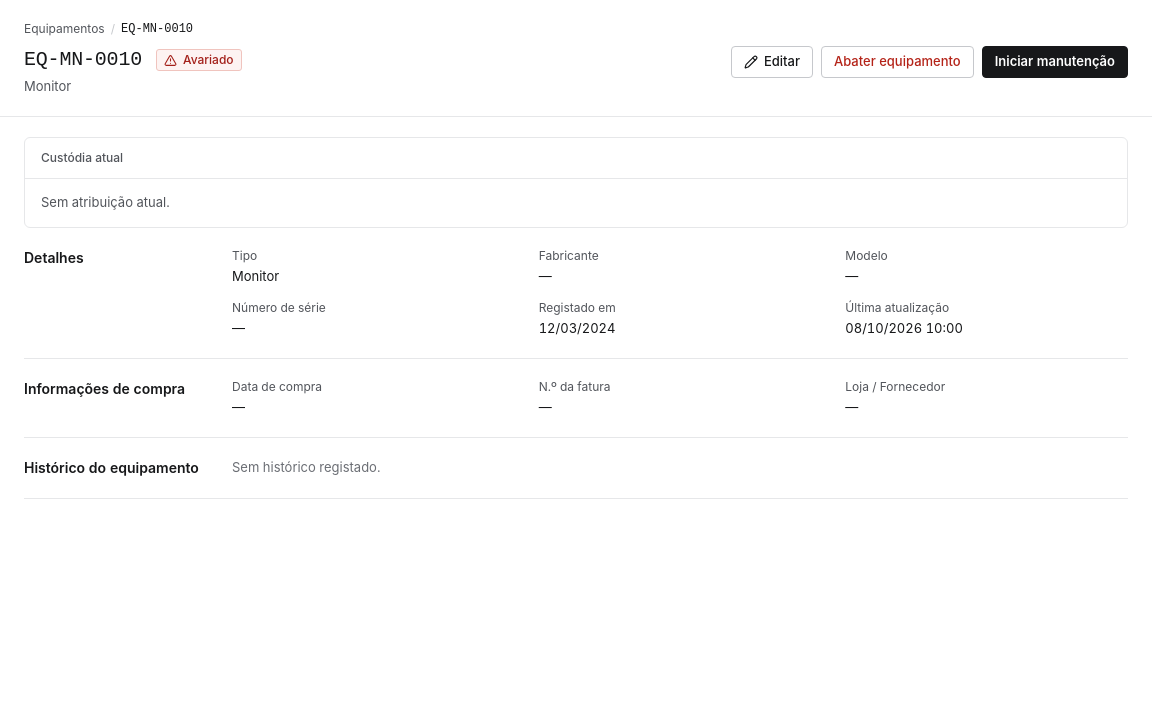
Test: Starting maintenance (Equipment detail → existing workflow) › shows a failed start inside the dialog
This screenshot has width=1152, height=720.
Step 1. Click the button "Iniciar manutenção" → (1055, 62), box [982,46,1128,78]
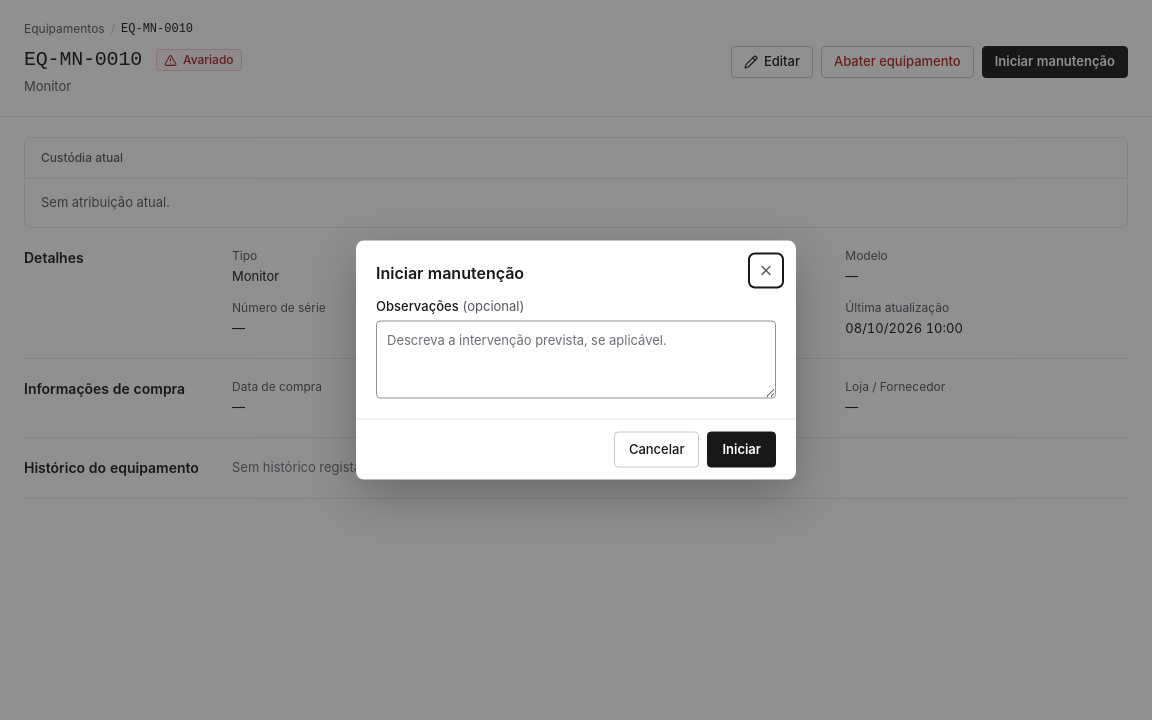
Step 2. Click the button "Iniciar" → (742, 450), box [707,432,776,468]
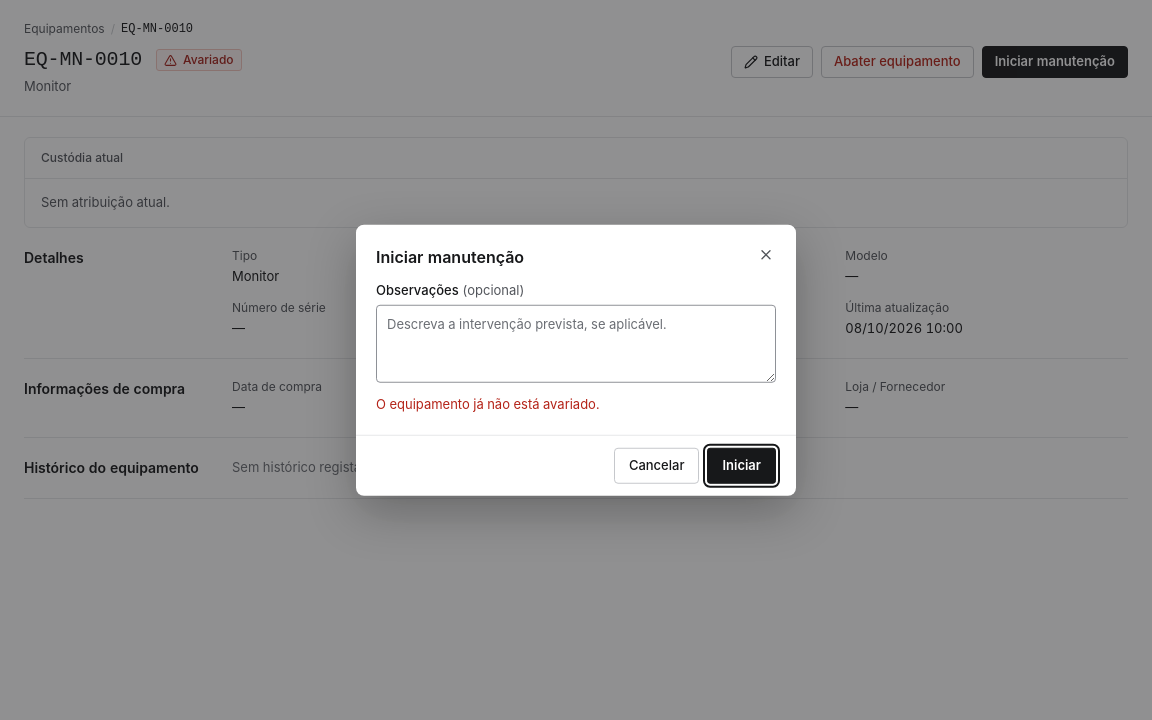
expect the dialog "Iniciar manutenção" is shown: met, box [356,225,796,495]
expect the message reads "O equipamento já não está avariado.": met, box [376,396,599,412]
